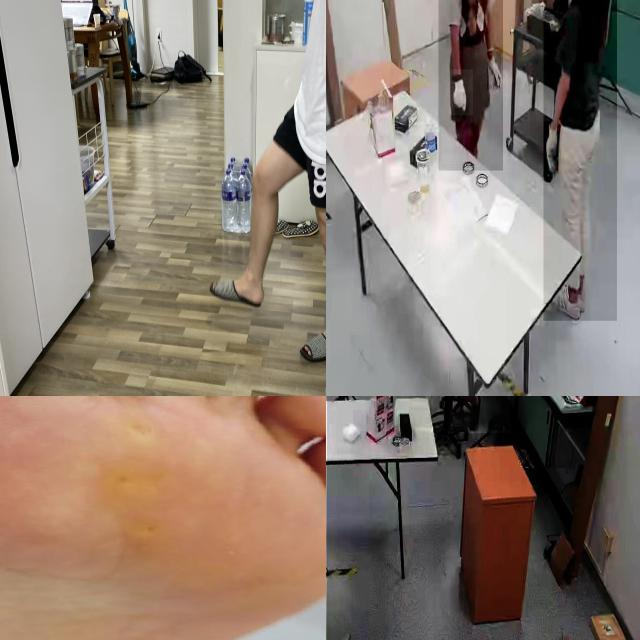Barefoots: (0, 396, 326, 640)
Sandals: (208, 265, 268, 307), (299, 316, 326, 363)
hand_glove: (449, 70, 474, 116), (546, 121, 562, 175), (487, 51, 501, 90)
person: (543, 0, 617, 321), (438, 0, 503, 171), (448, 396, 511, 434)
shoes: (547, 276, 583, 322)
